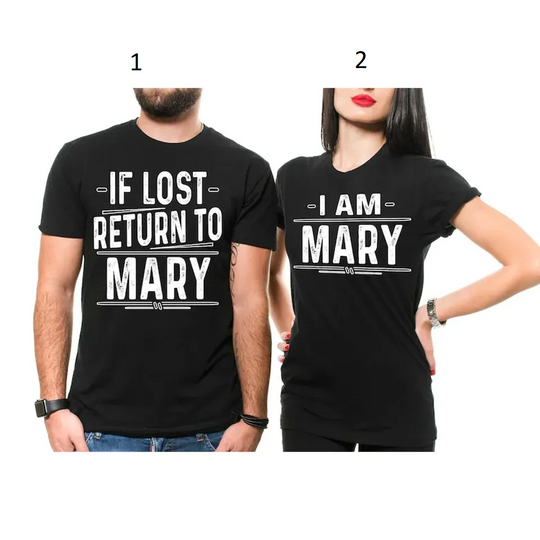design: (91, 168, 224, 311), (291, 190, 414, 278)
